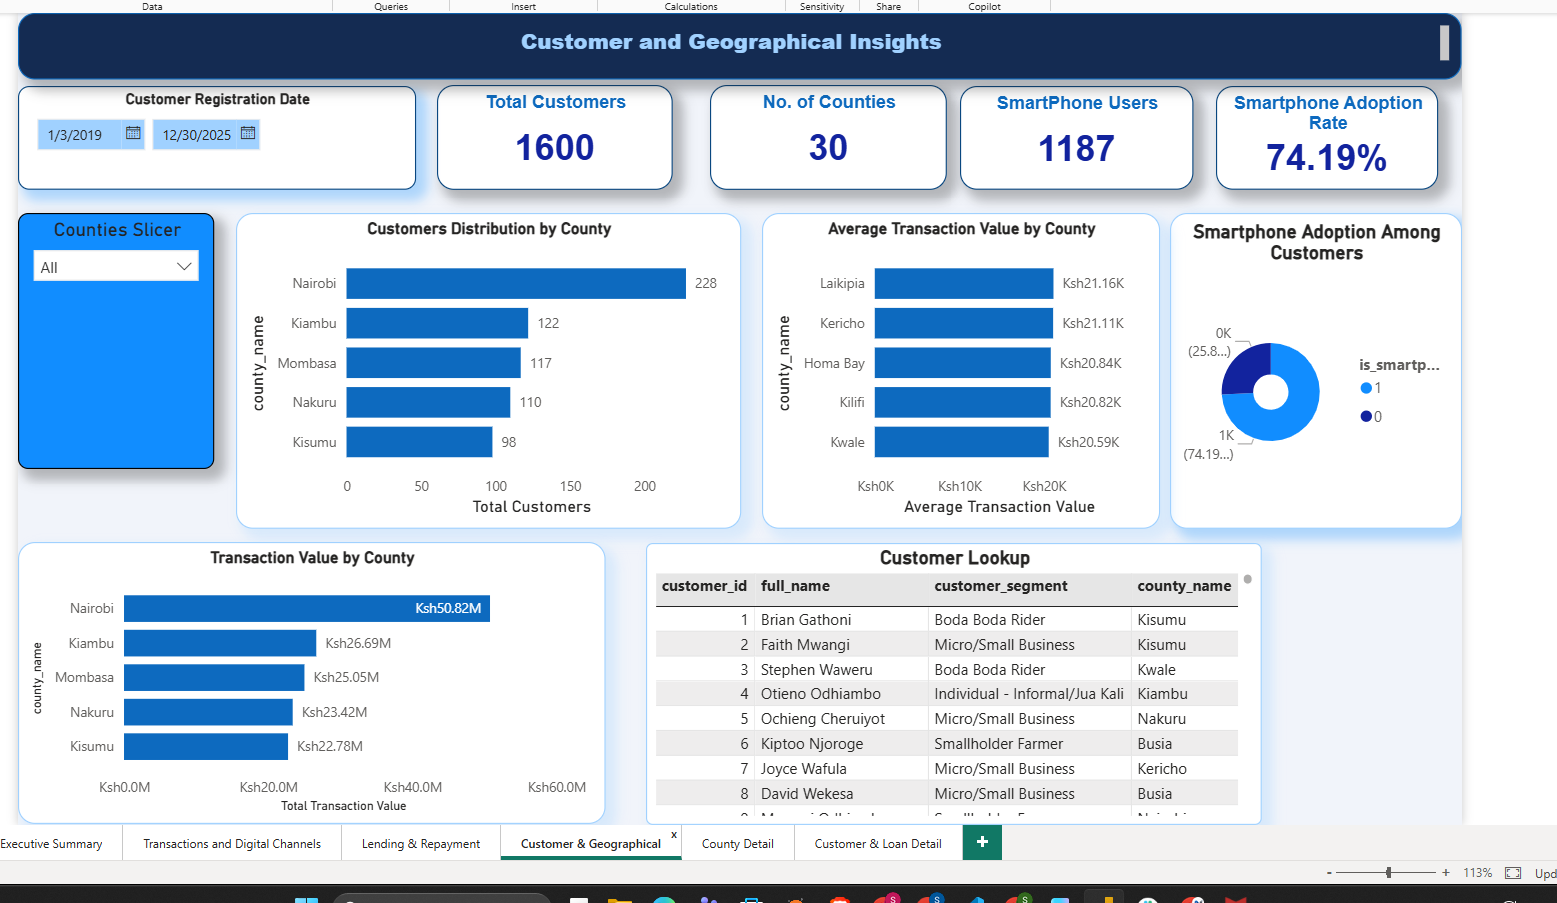

What the dashboard file says about the page in this screenshot:
{"tool":"powerbi","page":{"name":"Customer & Geographical ","canvas":[1280,720],"ordinal":3},"visuals":[{"type":"card","title":"Total Customers","fields":{"Values":["Wekeza_Measures.Total Customers"]},"box":[371.4,63.6,208.6,92.8],"z":0},{"type":"card","title":"No. of Counties","fields":{"Values":["Wekeza_Measures.Counties Covered"]},"box":[613.4,63.6,209.7,92.8],"z":1000},{"type":"card","title":"SmartPhone Users","fields":{"Values":["Wekeza_Measures.Smart Phone Users"]},"box":[835.6,64.7,206.6,91.8],"z":2000},{"type":"card","title":"Smartphone Adoption Rate","fields":{"Values":["Wekeza_Measures.Smartphone Adoption Rate"]},"box":[1062,64.7,197.2,91.8],"z":3000},{"type":"clusteredBarChart","title":"Customers  Distribution by County","fields":{"Category":["counties.county_name"],"Y":["Wekeza_Measures.Total Customers"]},"box":[193,177.3,447.5,279.6],"z":4000},{"type":"clusteredBarChart","title":"Transaction Value by County","fields":{"Category":["counties.county_name"],"Y":["Wekeza_Measures.Total Transaction Value"]},"box":[0,469.4,520.6,250.4],"z":5000},{"type":"donutChart","title":"Smartphone Adoption Among Customers","fields":{"Y":["Wekeza_Measures.Total Customers"],"Category":["customers.is_smartphone_user"]},"box":[1021.3,177.3,258.7,279.6],"z":6000},{"type":"clusteredBarChart","title":"Average Transaction Value by County","fields":{"Category":["counties.county_name"],"Y":["Wekeza_Measures.Average Transaction Value"]},"box":[659.3,177.3,352.6,279.6],"z":7000},{"type":"slicer","title":"Customer Registration Date","fields":{"Values":["Customer_Registration_Date_Dim.Date"]},"box":[0,64.7,352.6,91.8],"z":8000},{"type":"slicer","title":"Counties Slicer","fields":{"Values":["counties.county_name"]},"box":[0,177.3,174.2,227.4],"z":9000},{"type":"textbox","box":[0,0,1280,58.7],"z":10000},{"type":"tableEx","title":"Customer Lookup","fields":{"Values":["customers.customer_id","customers.full_name","customers.customer_segment","counties.county_name"]},"box":[556.9,469.6,546.4,249.7],"z":11000}]}

Visuals, with their boxes on the page's 1280x720 design canvas (x1, y1, x2, y2). These are canvas units, not pixel positions in the 1557x903 screenshot, which may show the page scaled, cropped or inside an application window:
"Total Customers" card: bbox=(371, 64, 580, 156)
"No. of Counties" card: bbox=(613, 64, 823, 156)
"SmartPhone Users" card: bbox=(836, 65, 1042, 156)
"Smartphone Adoption Rate" card: bbox=(1062, 65, 1259, 156)
"Customers  Distribution by County" clusteredBarChart: bbox=(193, 177, 640, 457)
"Transaction Value by County" clusteredBarChart: bbox=(0, 469, 521, 720)
"Smartphone Adoption Among Customers" donutChart: bbox=(1021, 177, 1280, 457)
"Average Transaction Value by County" clusteredBarChart: bbox=(659, 177, 1012, 457)
"Customer Registration Date" slicer: bbox=(0, 65, 353, 156)
"Counties Slicer" slicer: bbox=(0, 177, 174, 405)
textbox: bbox=(0, 0, 1280, 59)
"Customer Lookup" tableEx: bbox=(557, 470, 1103, 719)
